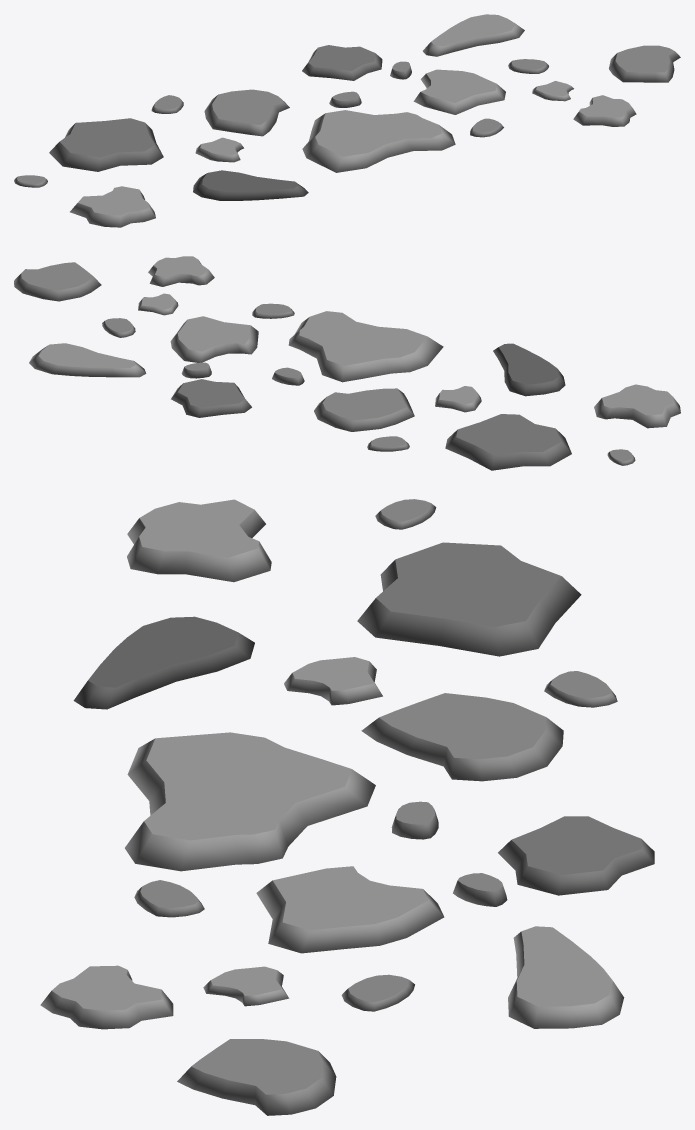
The model's file is Rock_Road_01.fbx.
3 views of the same model, one above another, from view 1: azimuth 30°, elevation 25°; view 2: azimuth 150°, elevation 25°; view 3: azimuth 270°, elevation 25° (orthographic). The views are drawn at different scales.
Visible parts, largest first — view 1: Rock_Road_01; view 2: Rock_Road_01; view 3: Rock_Road_01.
Boxes of the visible parts, x1,y1,x2,y2 form: Rock_Road_01: [14, 14, 680, 227]; Rock_Road_01: [14, 256, 680, 470]; Rock_Road_01: [40, 499, 654, 1115].
Size of the model in its own units: 739 by 11.7 by 313.
